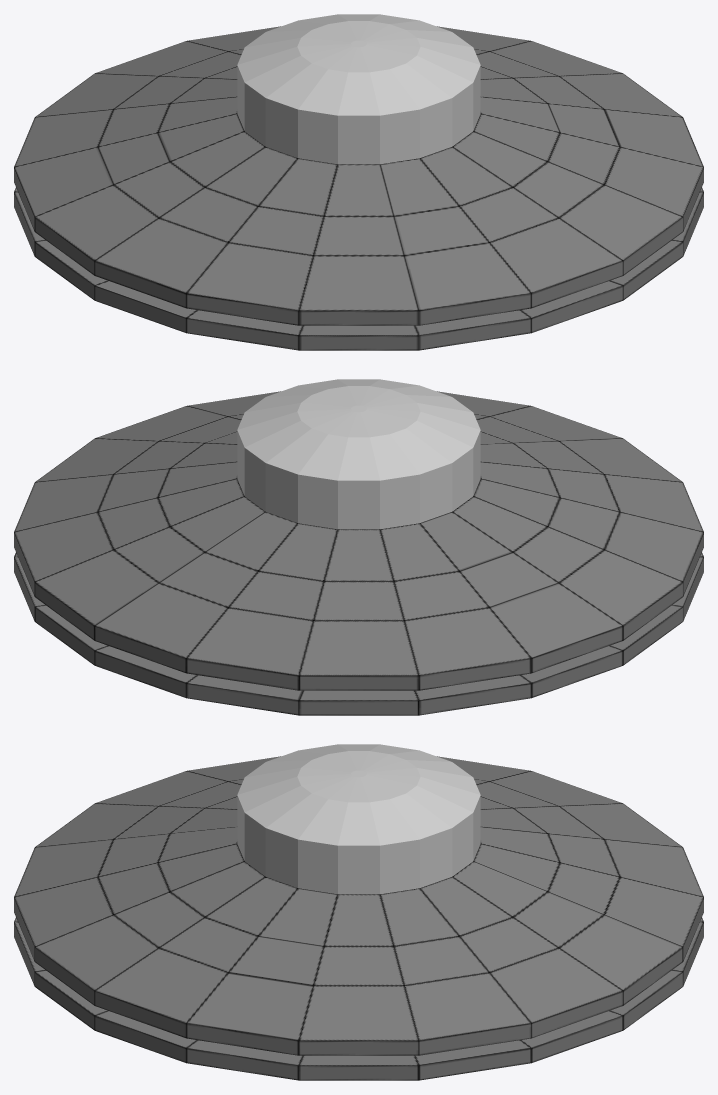
Rendered from ufo.obj.
3 views of the same model, one above another, from view 1: azimuth 30°, elevation 25°; view 2: azimuth 150°, elevation 25°; view 3: azimuth 270°, elevation 25° (orthographic).
Parts seen in each view (by area): view 1: Cylinder, Cabin_Cylinder.001; view 2: Cylinder, Cabin_Cylinder.001; view 3: Cylinder, Cabin_Cylinder.001.
Part boxes in pixels (left/top/right/bottom): Cylinder: left=14, top=26, right=703, bottom=350; Cabin_Cylinder.001: left=237, top=14, right=480, bottom=164; Cylinder: left=14, top=391, right=703, bottom=715; Cabin_Cylinder.001: left=237, top=379, right=480, bottom=529; Cylinder: left=14, top=756, right=703, bottom=1080; Cabin_Cylinder.001: left=237, top=744, right=480, bottom=894.
Size of the model in its own units: 2.24 by 0.7886 by 2.27.
